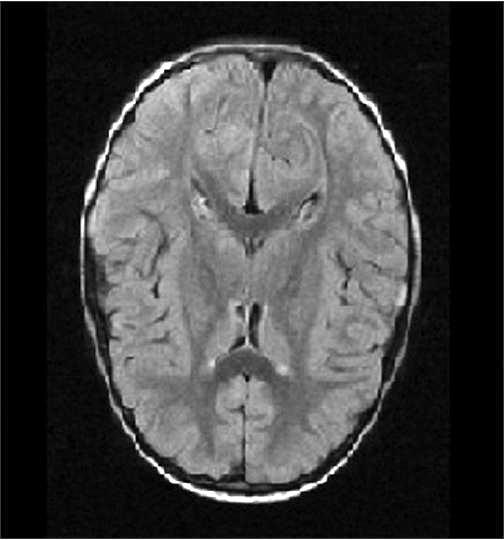Normal_Brain: (59, 1, 481, 540)
